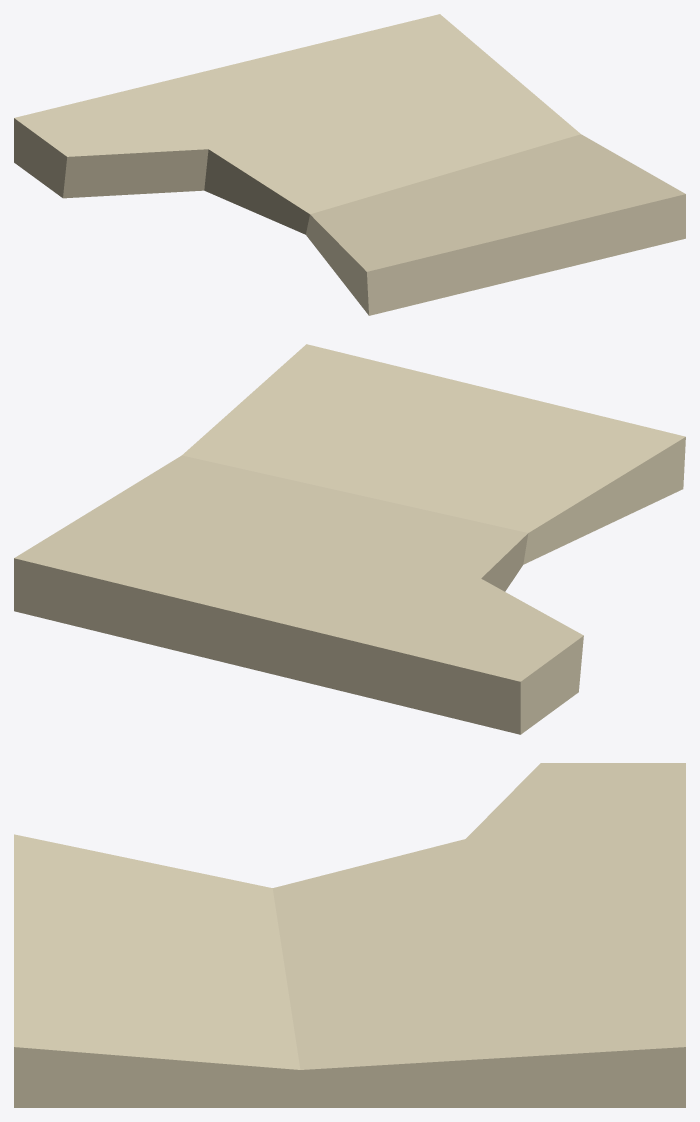
File: Destroy_Plate_7.fbx
3 renders of one model, top to bottom at view 1: azimuth 30°, elevation 25°; view 2: azimuth 150°, elevation 25°; view 3: azimuth 270°, elevation 25°, orthographic. The views are drawn at different scales.
Parts seen in each view (by area): view 1: Destroy_Plate_7; view 2: Destroy_Plate_7; view 3: Destroy_Plate_7.
Part boxes in pixels (x1,y1,x2,y2): Destroy_Plate_7: (14,14,685,315); Destroy_Plate_7: (14,344,685,734); Destroy_Plate_7: (14,763,685,1107).
Size of the model in its own units: 300 by 30 by 300.
